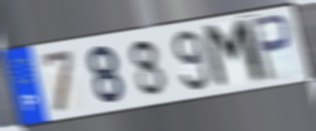7: (40, 47, 77, 116)
8: (129, 37, 170, 98), (87, 44, 126, 106)
9: (172, 28, 212, 94)
M: (199, 16, 269, 93)
P: (248, 11, 293, 83)
